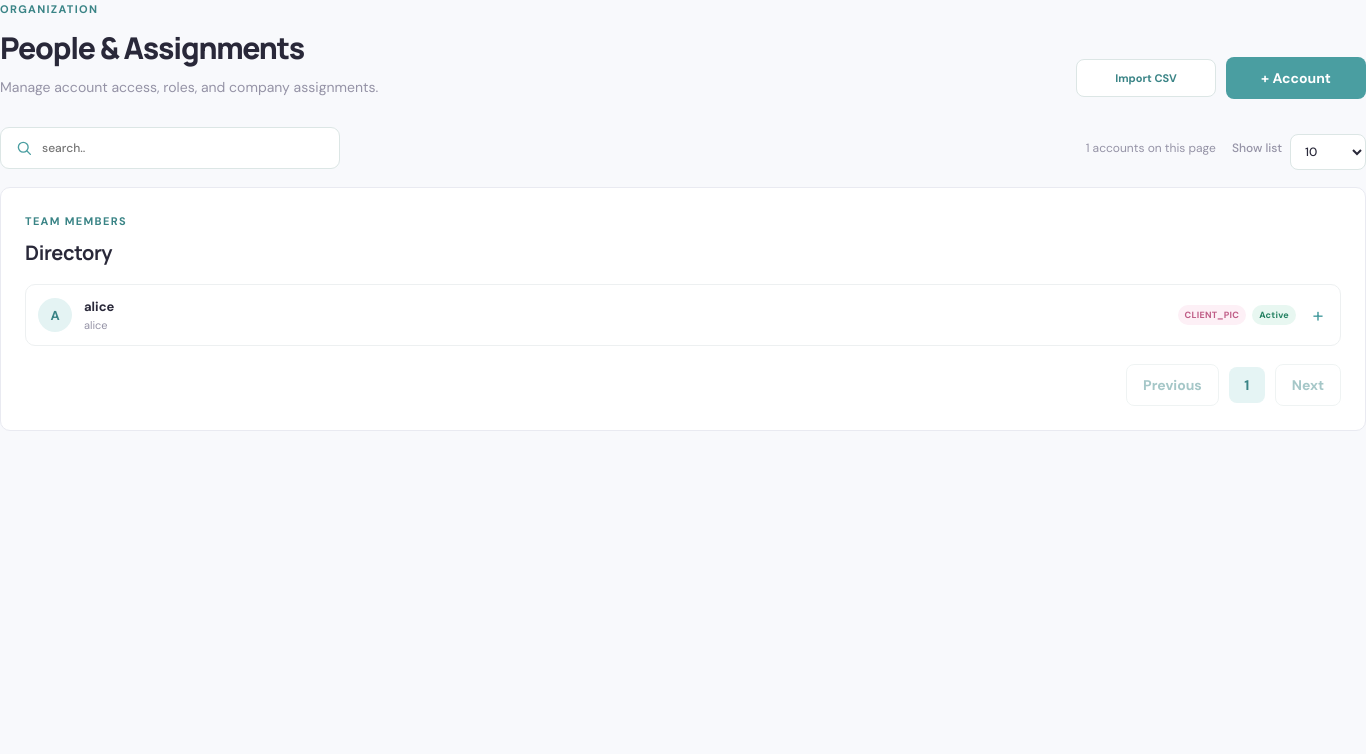
Scenario: removes and restores account access
Click the button "A alice alice CLIENT_PIC Active +".
click(55, 315)  # box top-left (26, 285), bottom-right (1340, 345)
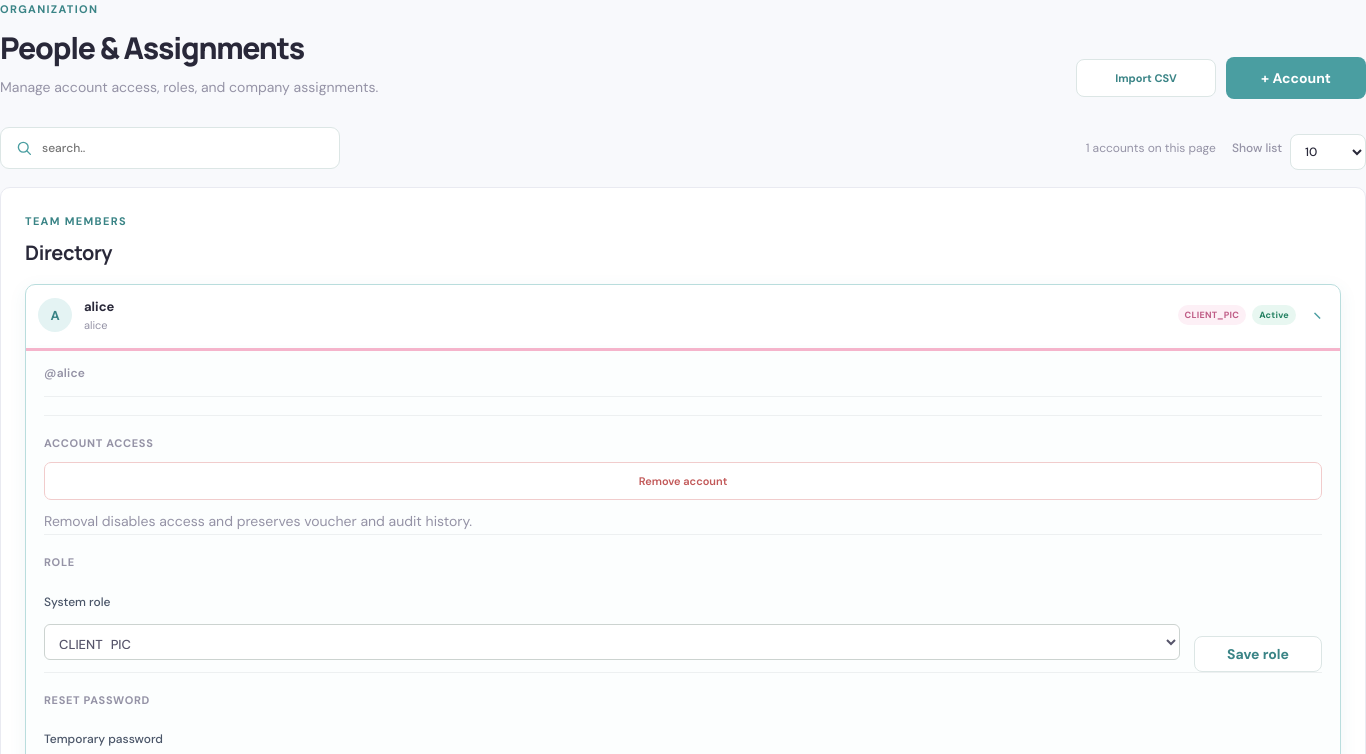
Click the button "Remove account".
click(683, 481)  # box top-left (44, 462), bottom-right (1322, 500)
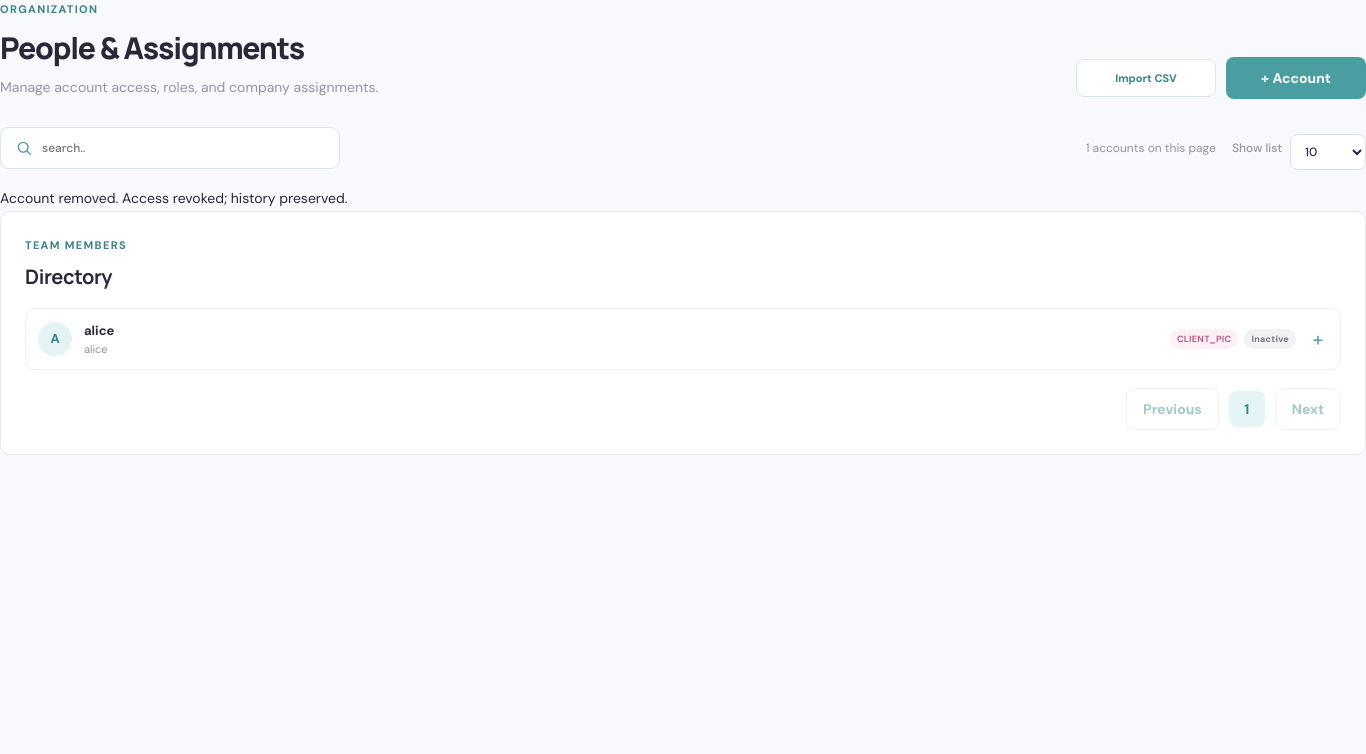
Now the text "Account removed. Access revoked; history preserved." is shown, box top-left (0, 190), bottom-right (348, 208)
Click the button "A alice alice CLIENT_PIC Inactive +".
click(55, 339)  # box top-left (26, 309), bottom-right (1340, 369)
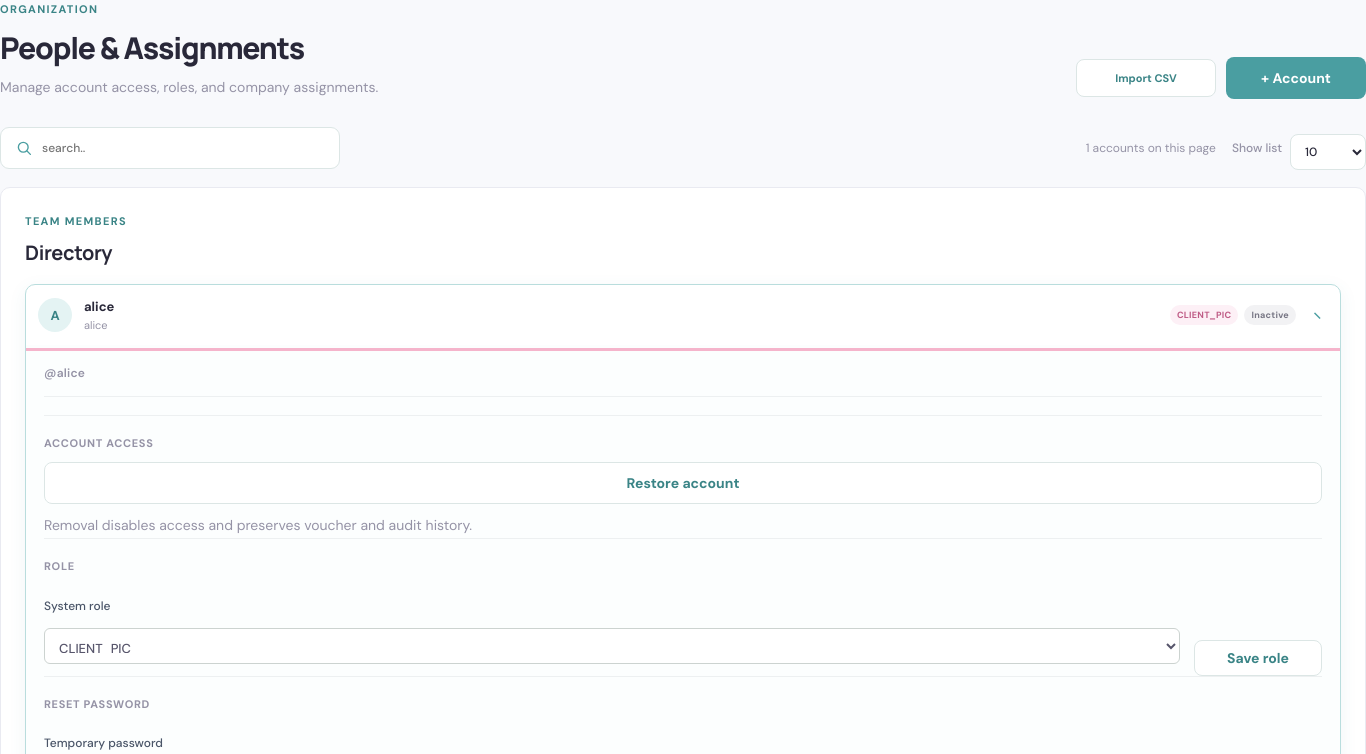
Click the button "Restore account".
click(683, 483)  # box top-left (44, 462), bottom-right (1322, 504)
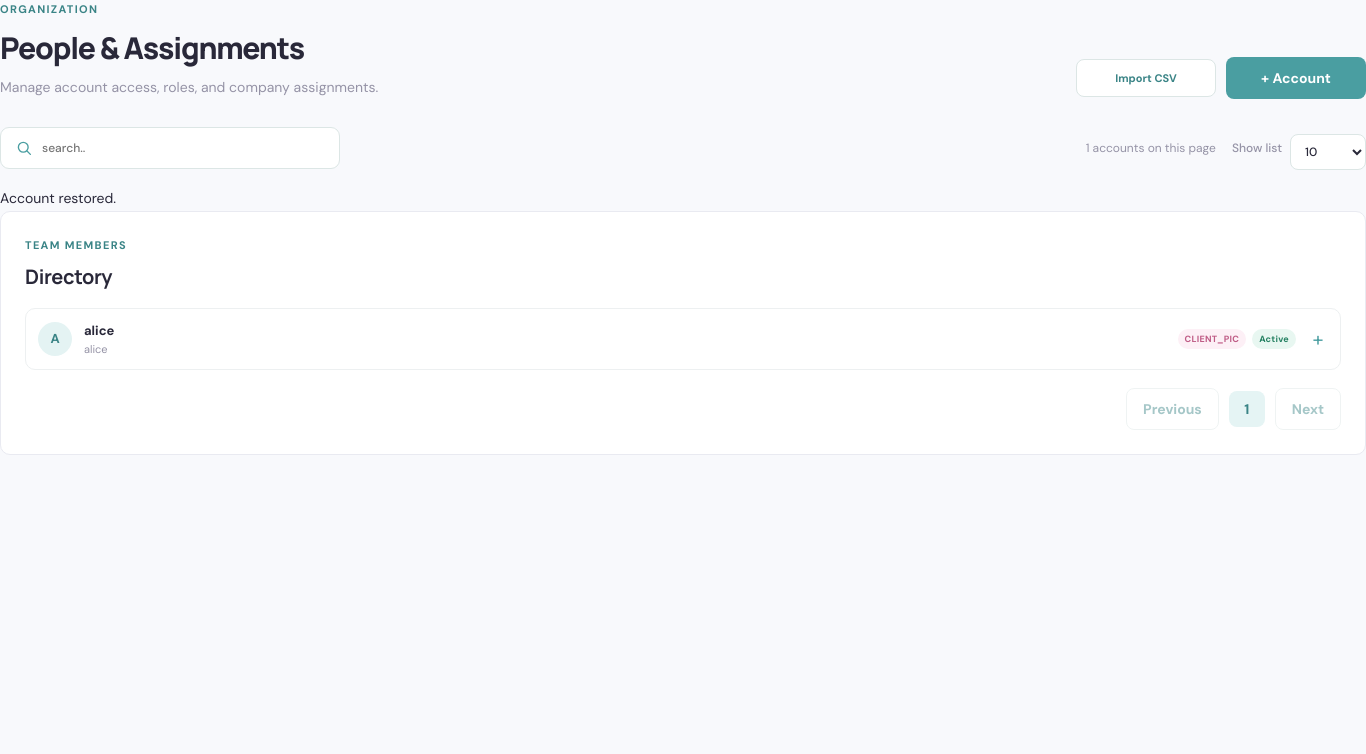
Now the text "Account restored." is shown, box top-left (0, 190), bottom-right (116, 208)
